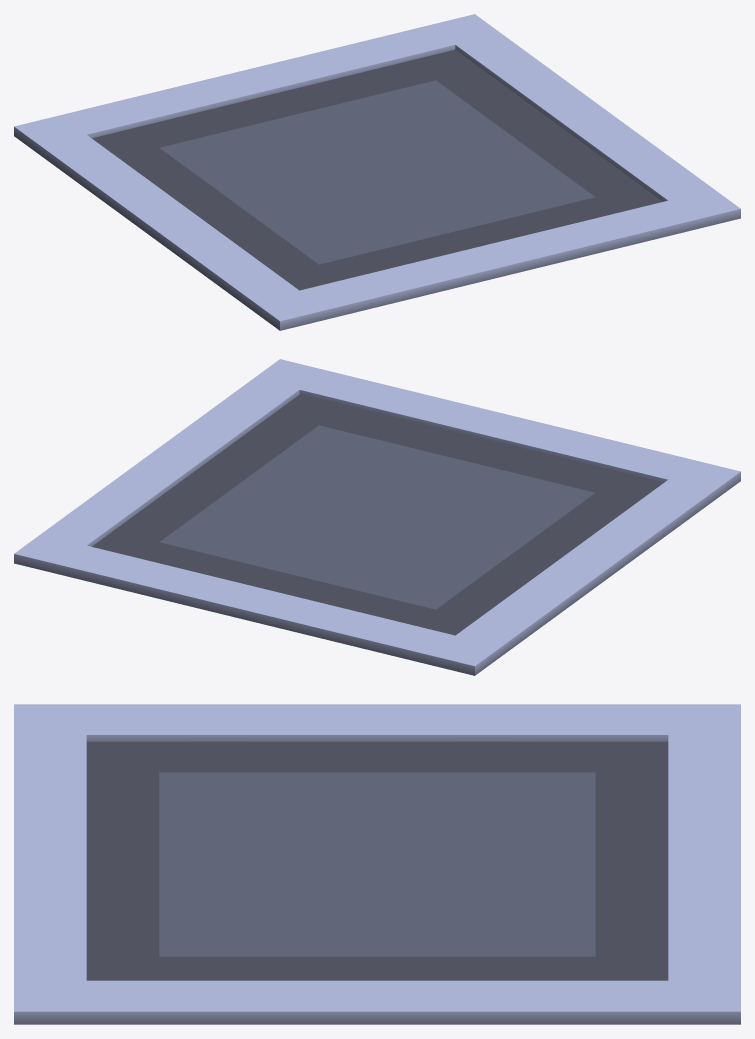
Rendered from road-square.glb.
3 views of the same model, one above another, from view 1: azimuth 30°, elevation 25°; view 2: azimuth 150°, elevation 25°; view 3: azimuth 270°, elevation 25° (orthographic). The views are drawn at different scales.
Visible parts, largest first — view 1: road-square; view 2: road-square; view 3: road-square.
Part boxes in pixels (bbox=[...]): road-square: bbox=[14, 14, 740, 330]; road-square: bbox=[14, 359, 740, 675]; road-square: bbox=[14, 704, 740, 1024].
Size of the model in its own units: 1 by 0.02 by 1.
1 material, 1 textured.
